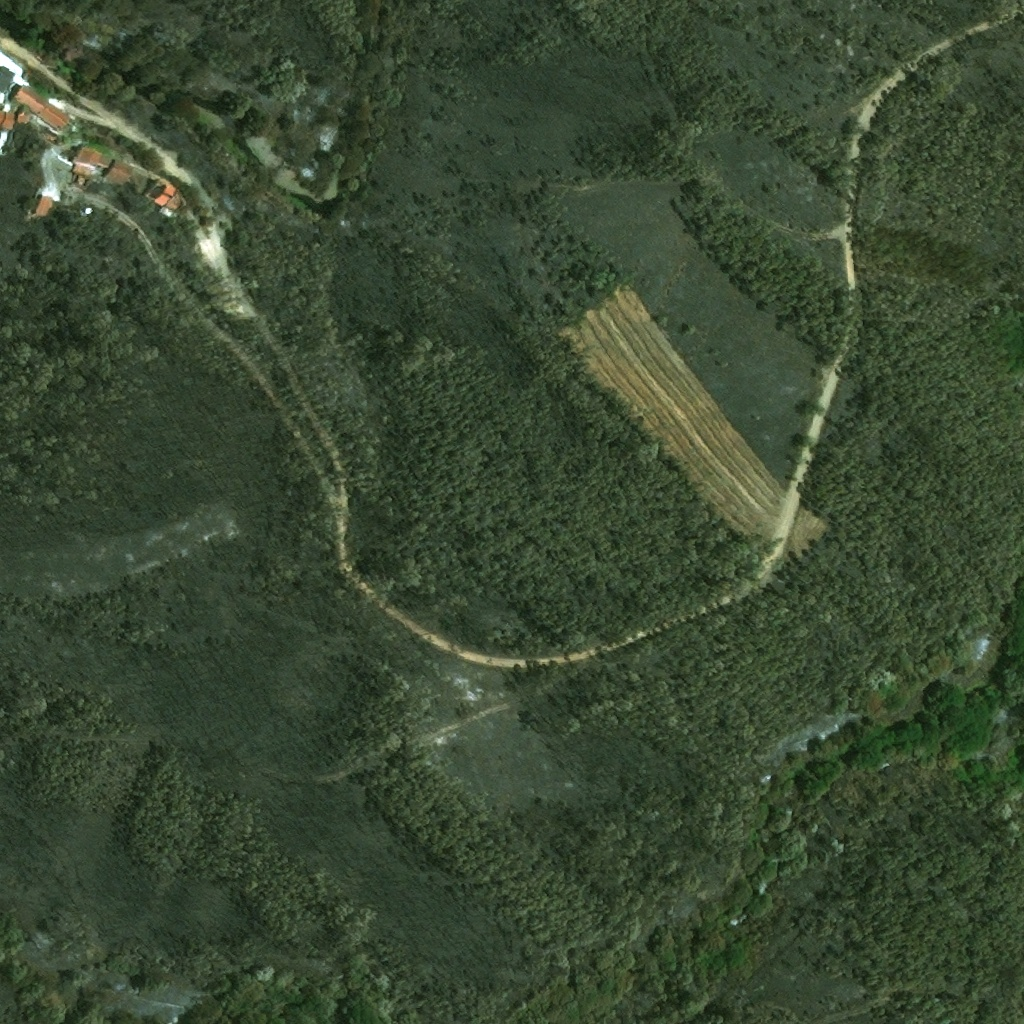0 no-damage: (12, 83, 69, 133), (140, 177, 173, 209), (74, 145, 112, 171), (100, 158, 131, 189), (159, 189, 185, 218), (0, 64, 16, 95), (31, 196, 51, 219), (0, 112, 14, 131), (14, 110, 28, 124)
4 un-classified: (0, 111, 4, 128)
